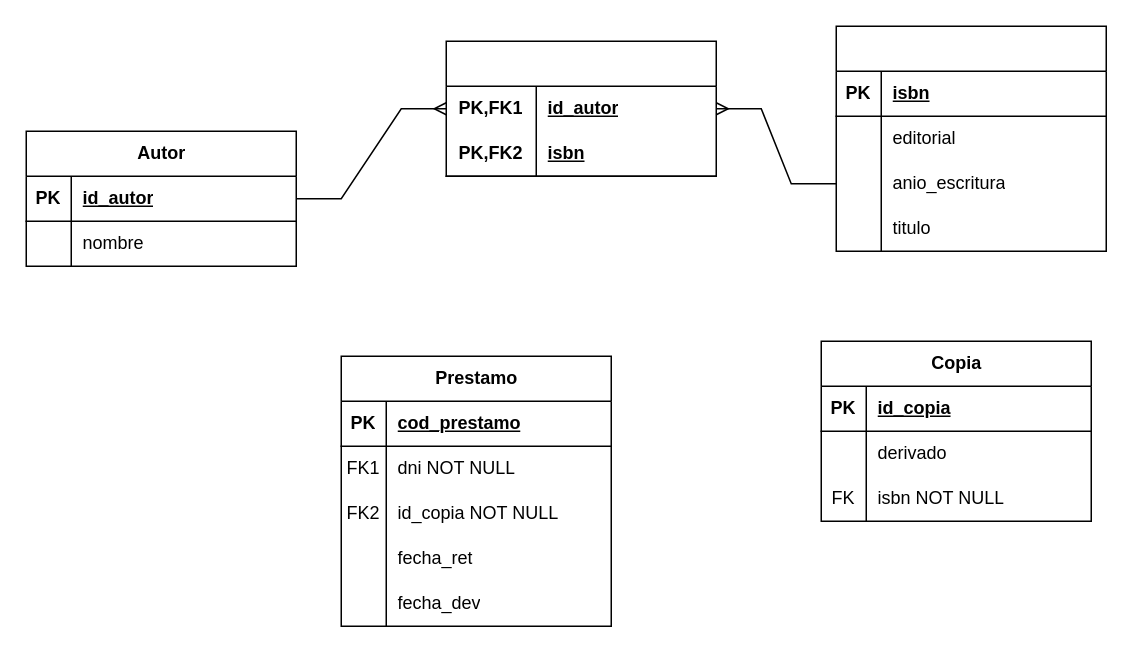
The diagram is 1133 pixels wide and 653 high, and some of its shapes have lost their labels. The box of each missing label's shape, as (x1, y1, x2, y2) in pixels:
Escribe: (445, 40, 716, 176)
Libro: (835, 25, 1106, 251)
